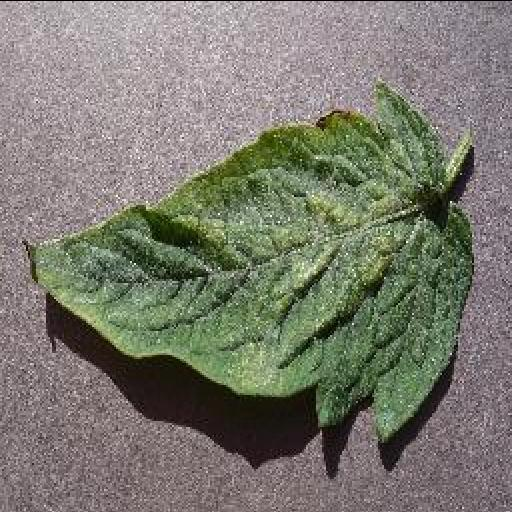disease_tomato: (20, 77, 474, 442)
